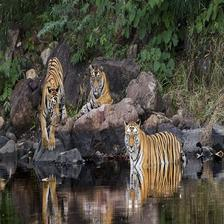tiger: (121, 123, 195, 195), (35, 49, 68, 152), (85, 63, 116, 121)
